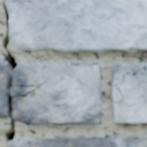brick: (5, 0, 146, 52), (113, 71, 146, 123), (6, 136, 146, 146), (112, 63, 143, 83)
broken_brick: (13, 64, 101, 123), (0, 58, 31, 117)
crack: (0, 2, 47, 144), (112, 64, 146, 106), (40, 65, 46, 74), (11, 0, 17, 3)
